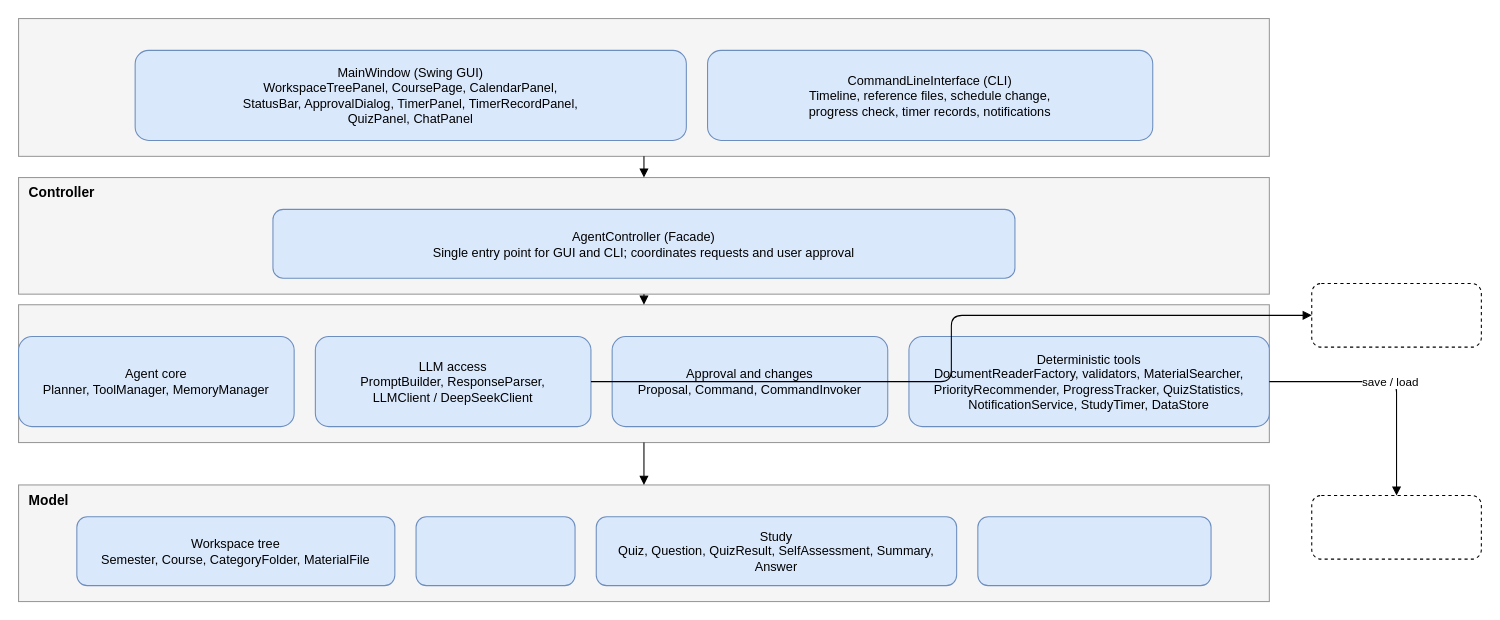
Image size: 1500x620. Some labels were removed from this diagram. Each missing label, with the box of its shape:
Business Logic: (17, 304, 1269, 443)
DeepSeek API (external service): (1311, 282, 1481, 347)
Local data files (user's computer): (1311, 494, 1481, 559)
Records TimerSession, InteractionRecord: (977, 516, 1211, 586)
Schedule Deadline: (415, 516, 575, 586)
Viewer: (17, 17, 1269, 156)
